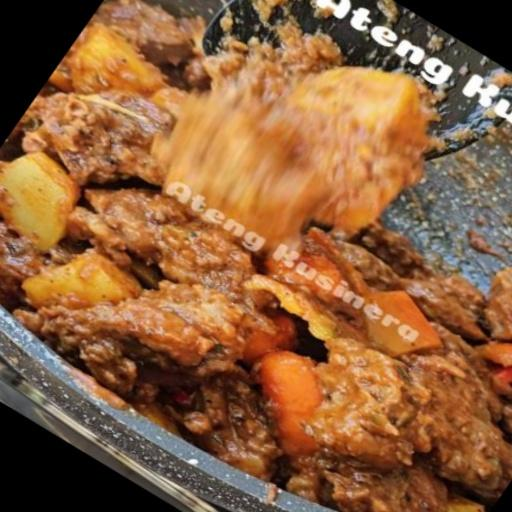pork caldereta: (0, 0, 511, 511)
